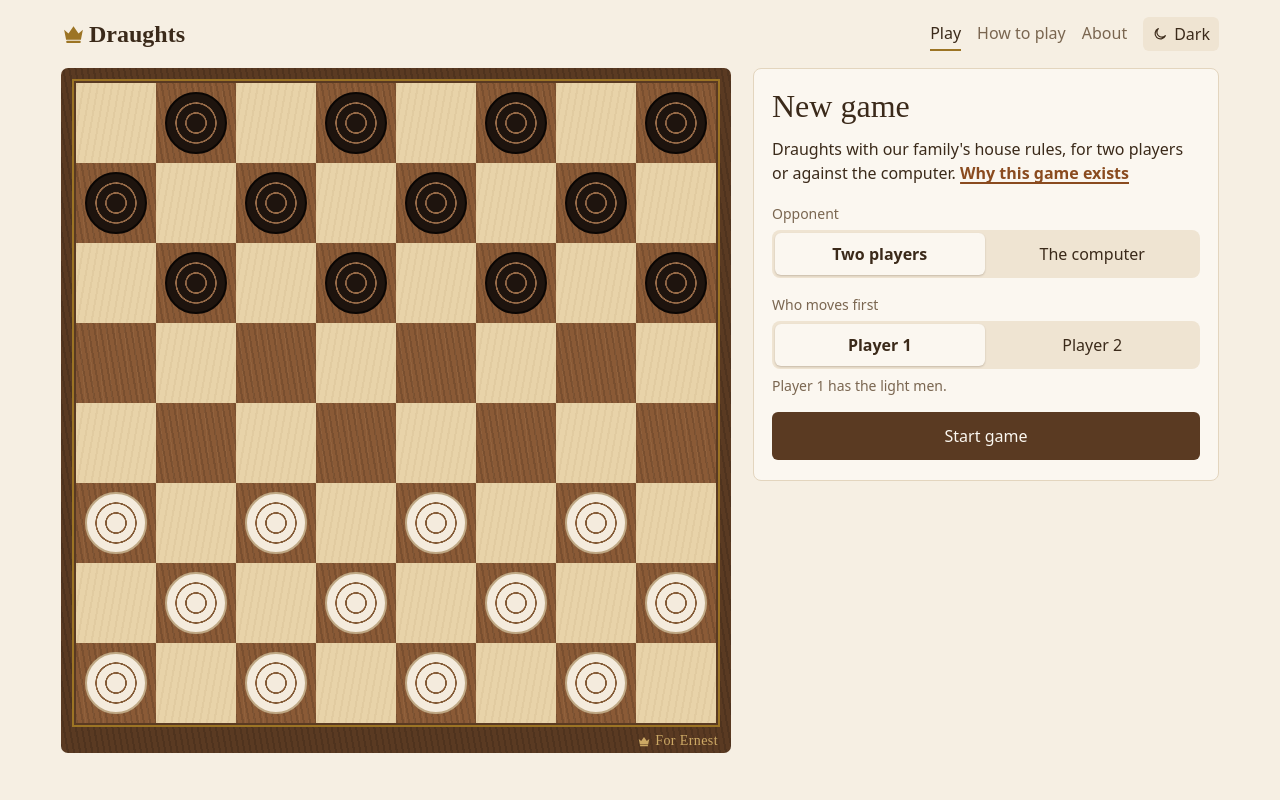
Test: the routes › links every page to the other two, and moves between them (item 1, and spec section 6.4.1, item 4)
The width and height of the screenshot is (1280, 800).
Click the link "About" at (1104, 34), box x1=1082 y1=17 x2=1127 y2=51
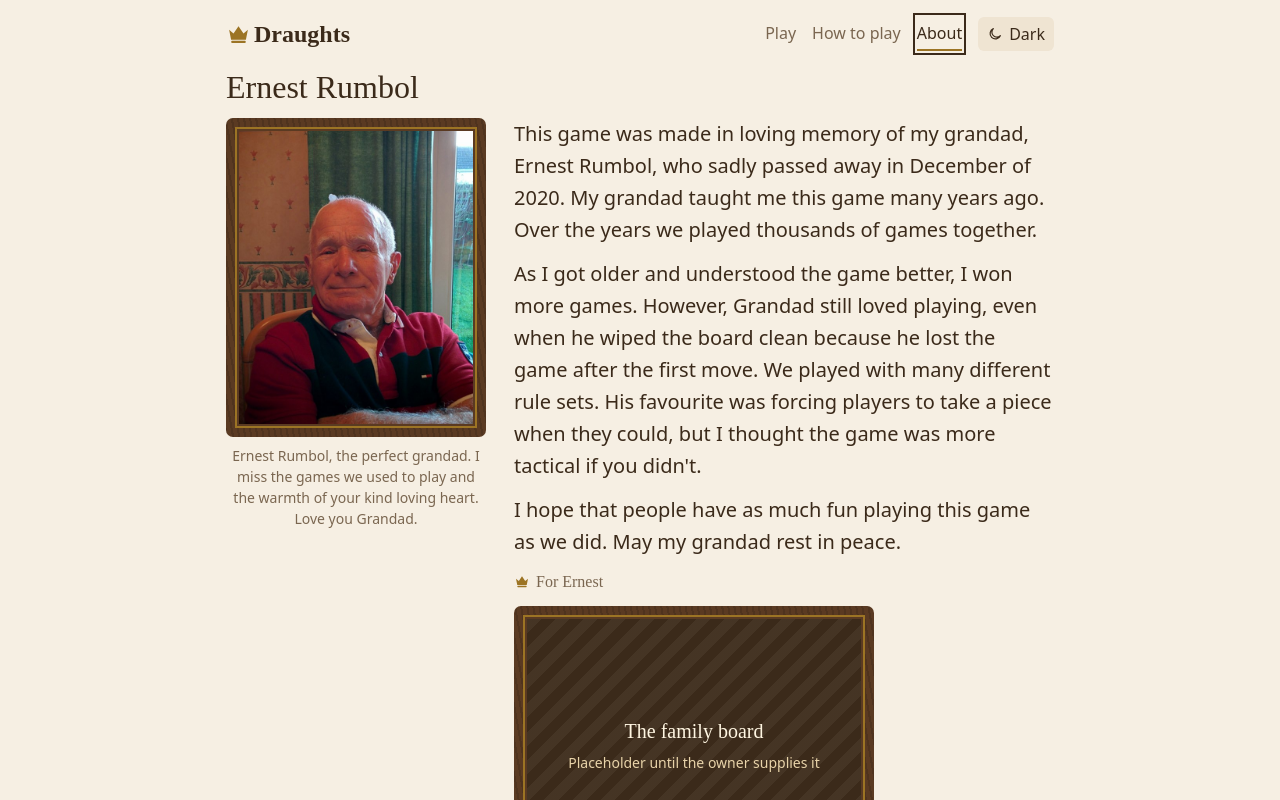
Now the heading "Ernest Rumbol" is shown, box x1=226 y1=69 x2=419 y2=105
Click the link "Draughts" at (288, 34), box x1=226 y1=16 x2=350 y2=52
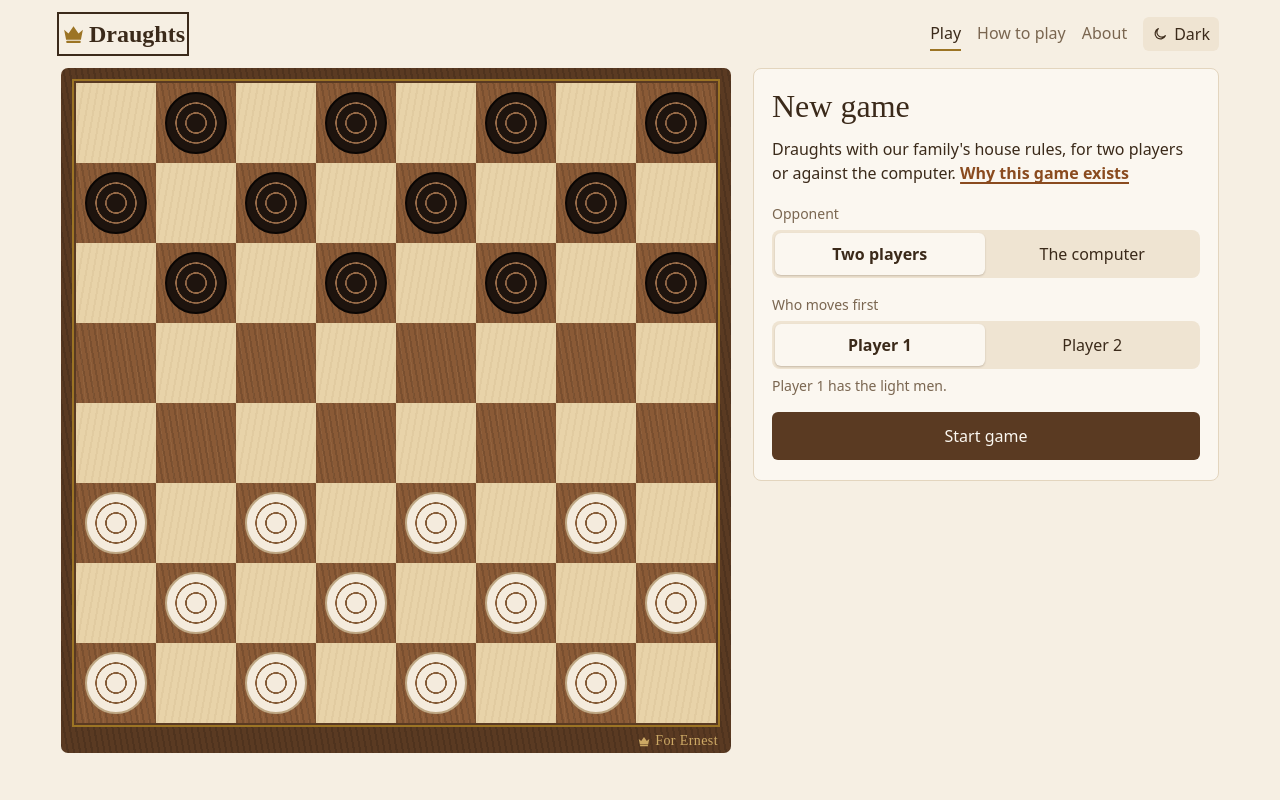
Now the heading "New game" is shown, box x1=772 y1=88 x2=910 y2=124
